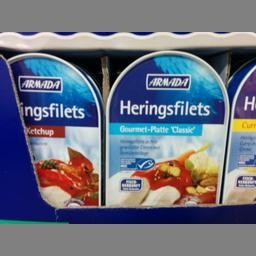fish: (106, 50, 228, 206), (6, 52, 103, 204)
